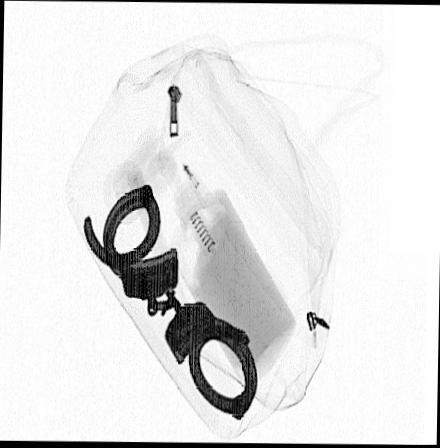HandCuffs: (79, 182, 259, 424)
